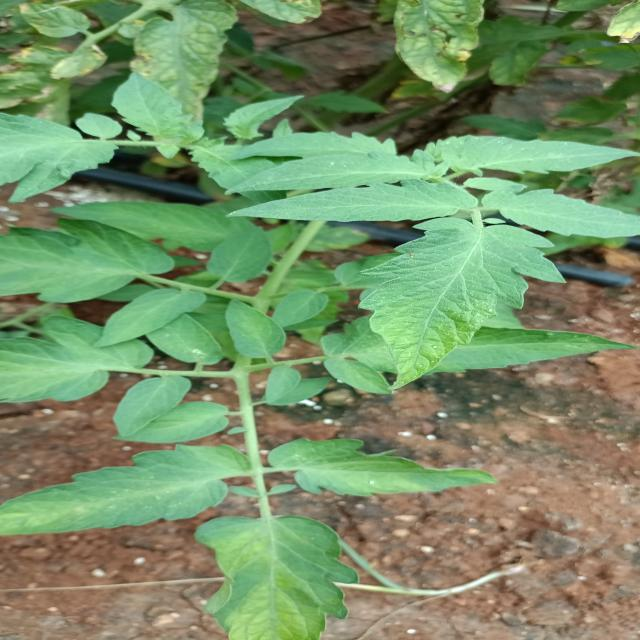Healthy Leaf: (336, 224, 537, 387), (3, 445, 258, 545), (193, 513, 364, 640), (259, 433, 506, 501), (107, 377, 199, 443)
